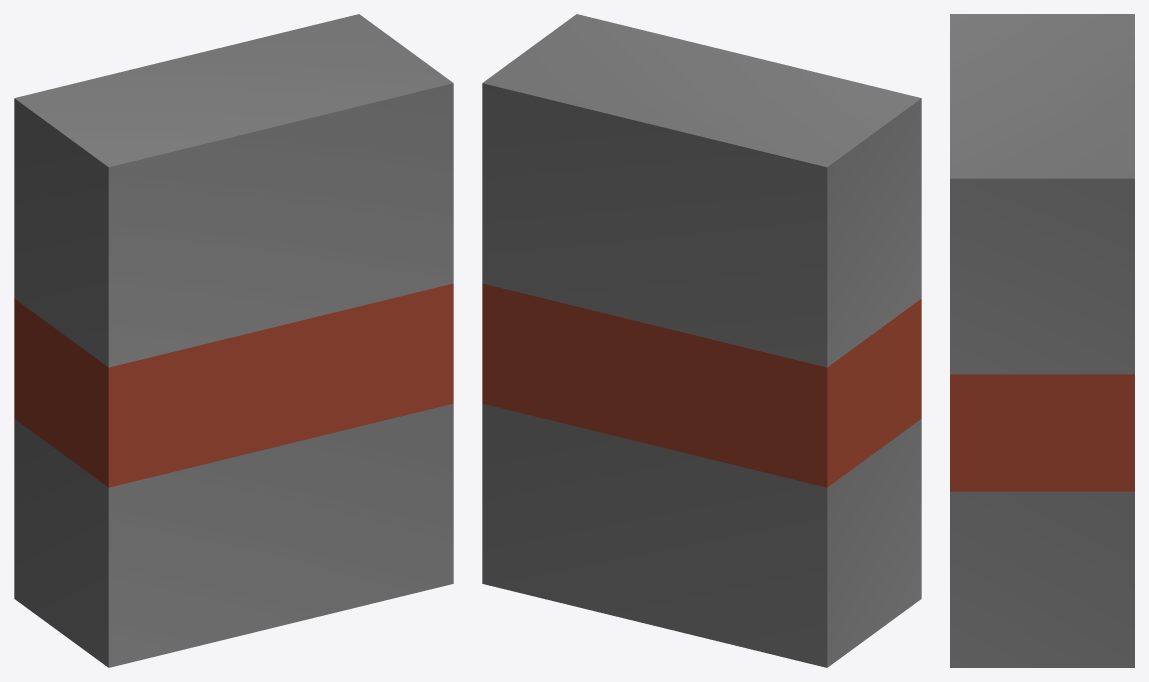
File: Ürün41.fbx
The picture shows the model from 3 angles, left to right: view 1: azimuth 30°, elevation 25°; view 2: azimuth 150°, elevation 25°; view 3: azimuth 270°, elevation 25°; orthographic projection. The views are drawn at different scales.
Parts seen in each view (by area): view 1: Ürün7; view 2: Ürün7; view 3: Ürün7.
Part boxes in pixels (bbox=[...]): Ürün7: bbox=[14, 14, 453, 667]; Ürün7: bbox=[482, 14, 921, 667]; Ürün7: bbox=[950, 14, 1134, 667].
Bounding box in the file's own units: 23.51 × 32.6 × 11.16.
